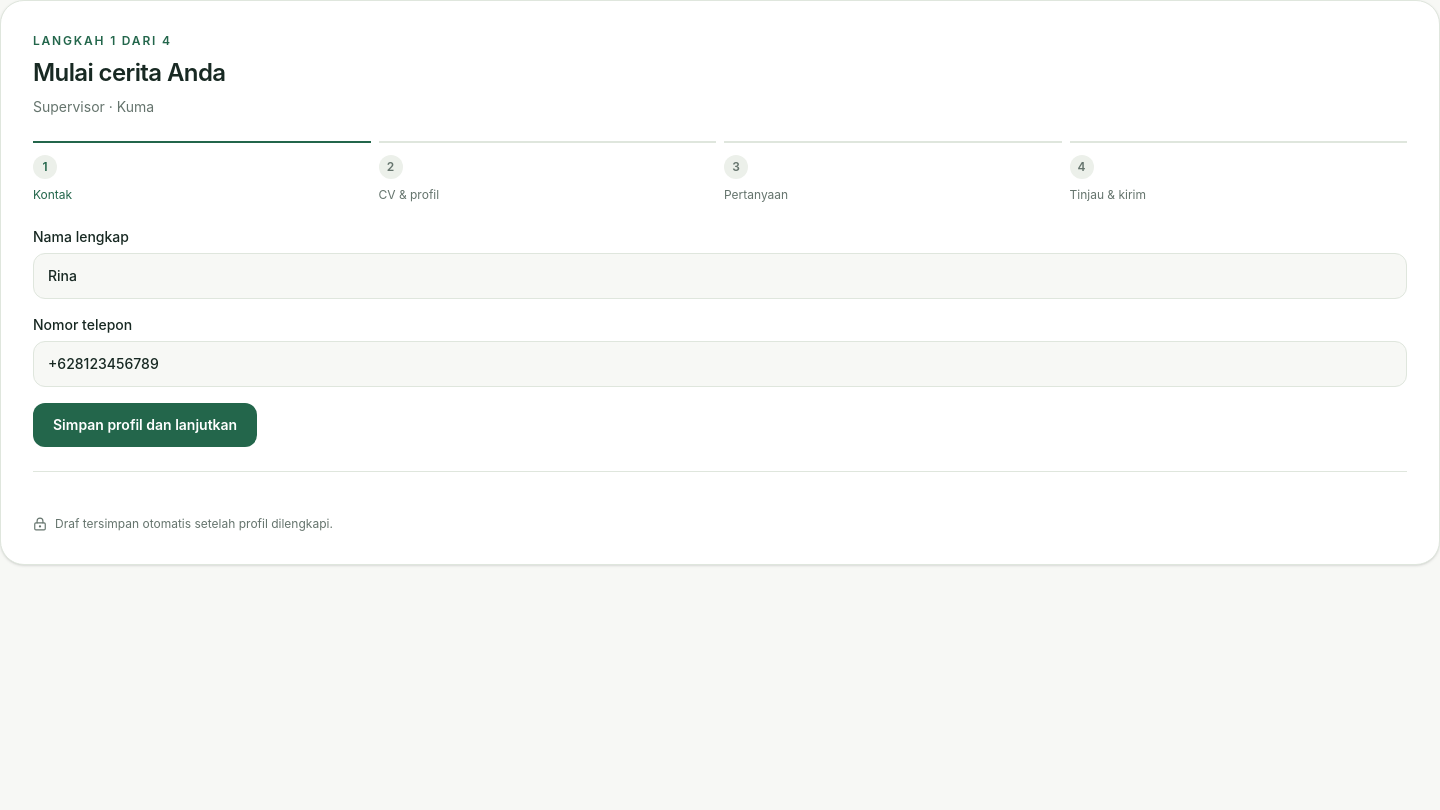
Scenario: a rejected scan at review still blocks submission
Later steps or results of the test are not shown.
Click the button "Simpan profil dan lanjutkan": (145, 425) [33, 403, 257, 447]
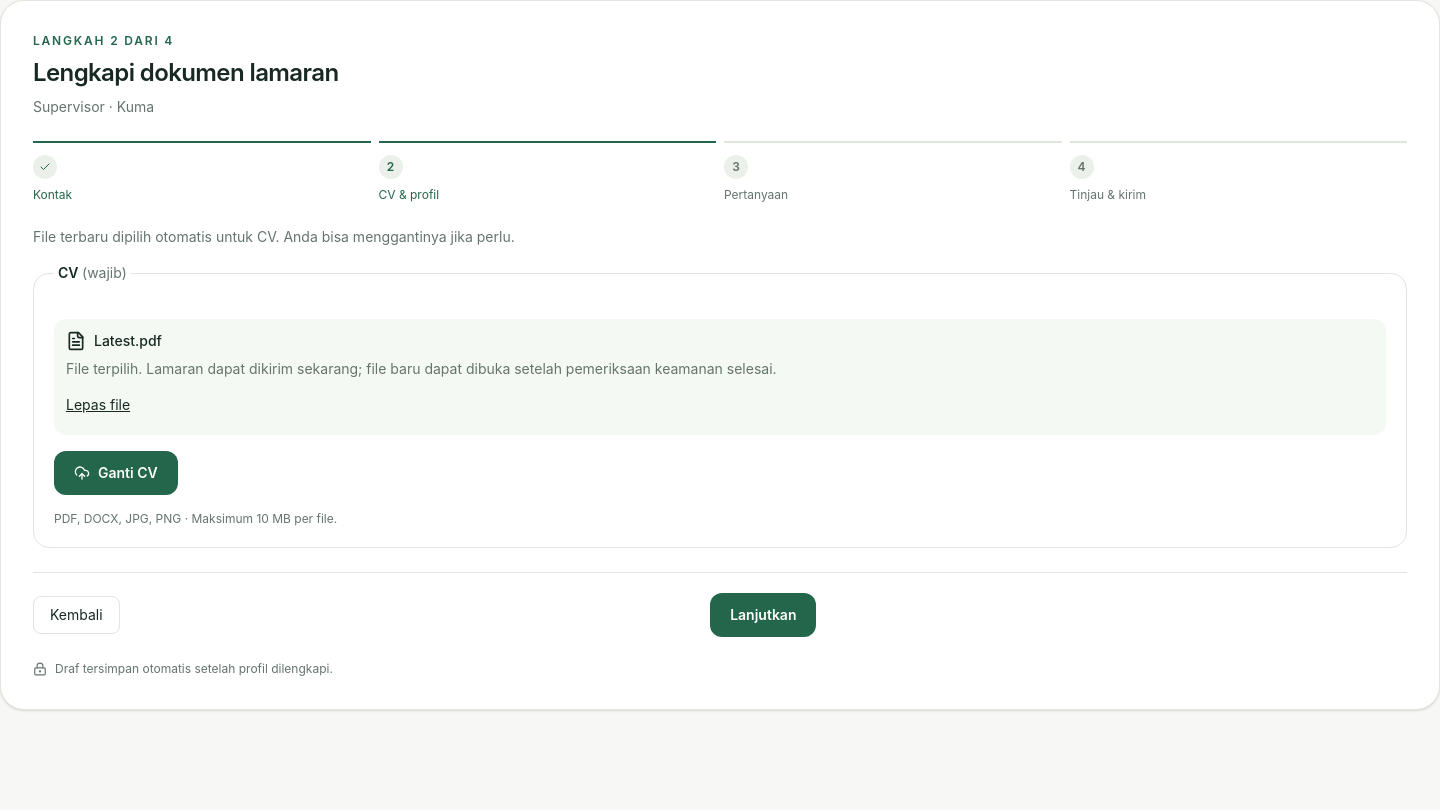
Check: the button "Lanjutkan" is enabled, box [710, 593, 816, 637]
Check: the heading "Lengkapi dokumen lamaran" is shown, box [33, 58, 338, 87]
Check: the file field labelled "Ganti CV" is shown, box [54, 451, 178, 495]
